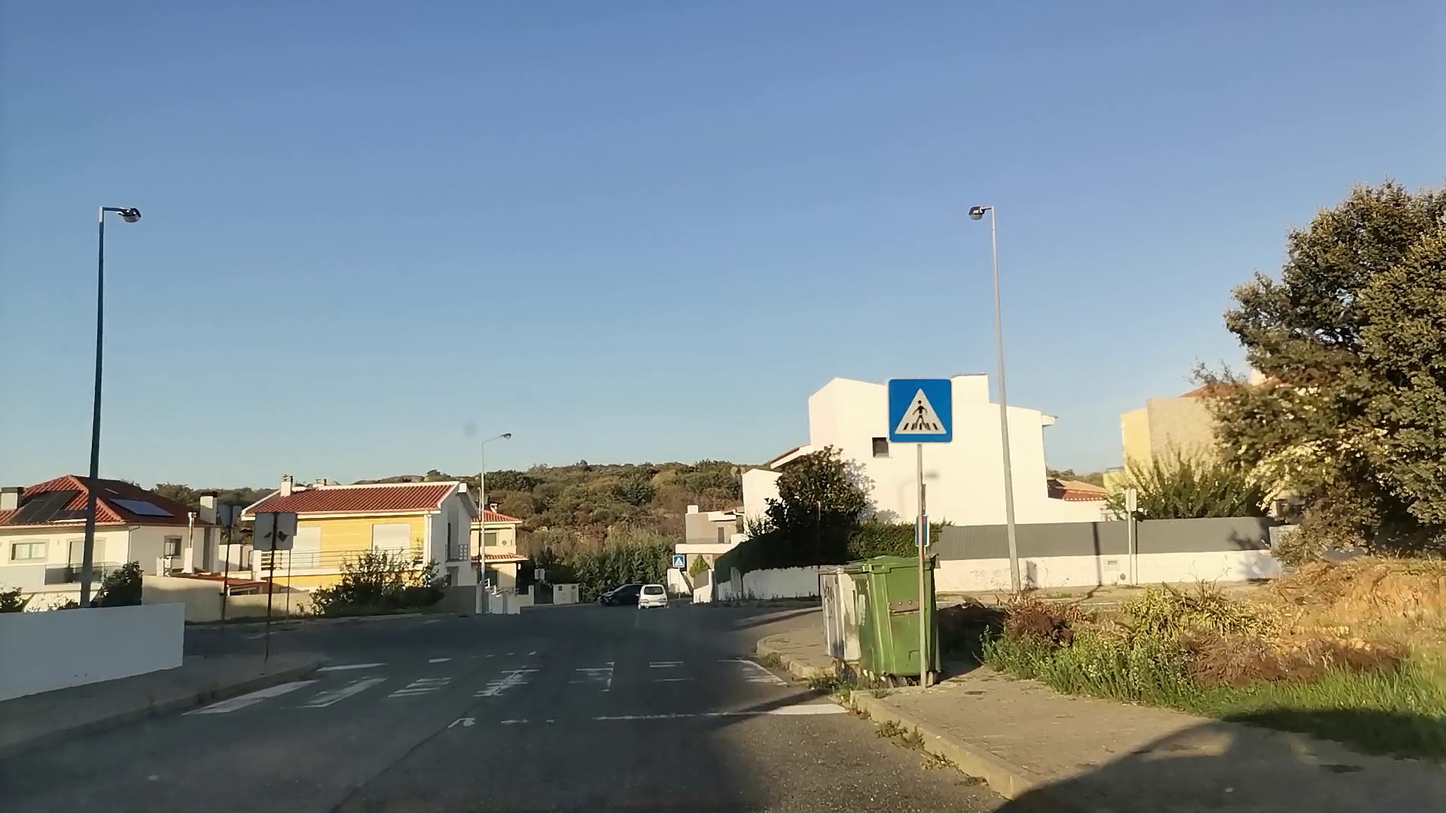Stairs: (185, 657, 788, 718)
